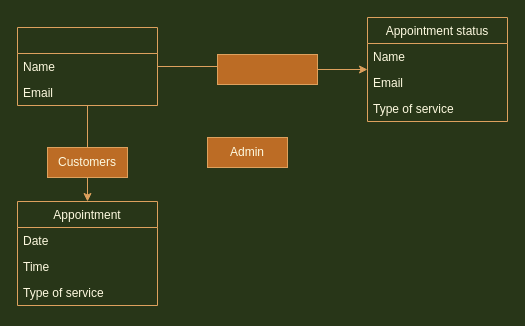
Image size: 525x326. Some labels were removed from this diagram. The shapes that lost their labels are listed below. From the top down, each one's box as (x1, y1, x2, y2) in pixels, then its label:
(16, 26, 158, 106): User login
(216, 54, 318, 84): Staff members
